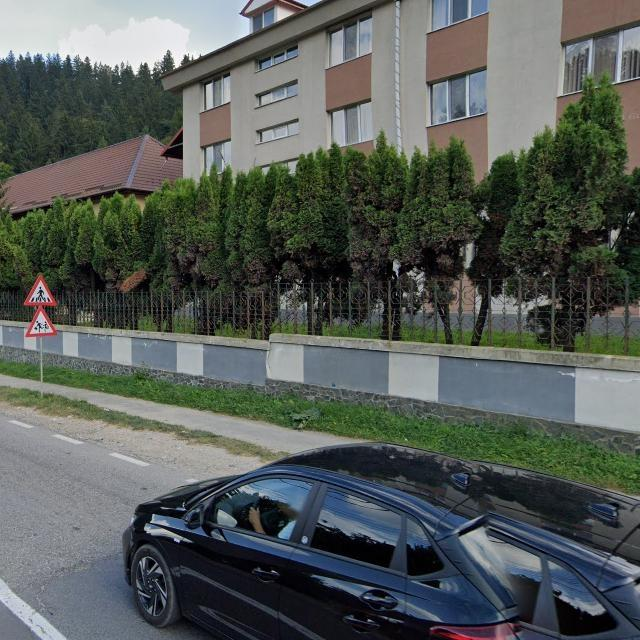warn_crosswalk: (24, 274, 57, 306)
